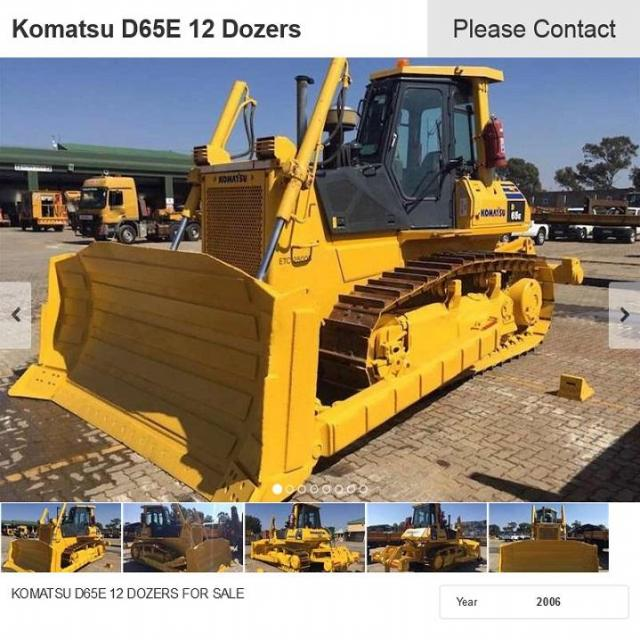Bulldozer: (33, 63, 593, 496)
